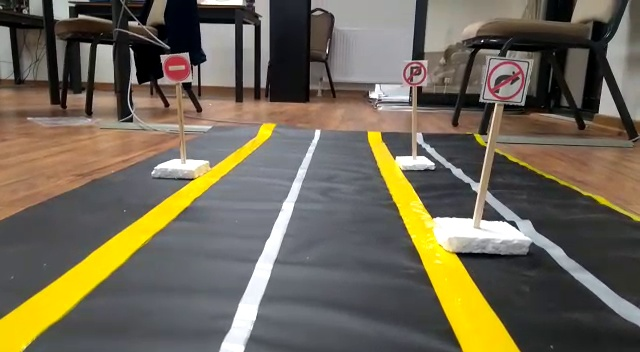girisi_olmayan_yol: (162, 54, 192, 82)
park_yapilmaz: (400, 58, 426, 86)
saga_donulmez: (481, 51, 530, 104)
